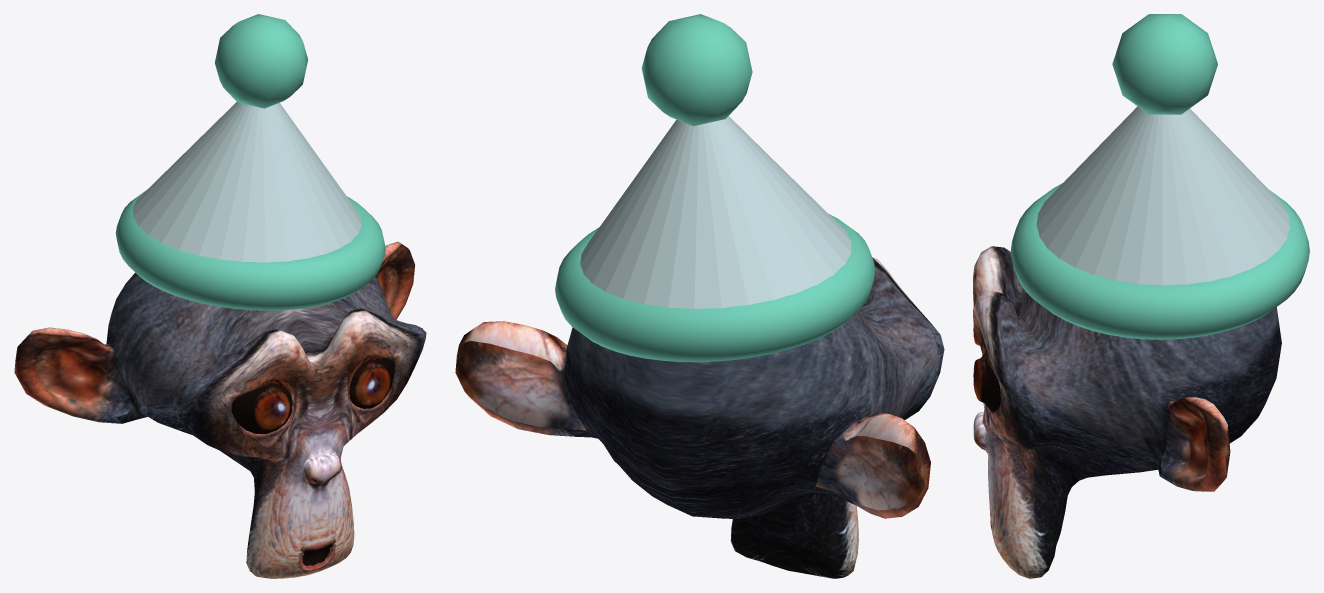
File: monkey_uv.dae
The picture shows the model from 3 angles, left to right: view 1: azimuth 30°, elevation 25°; view 2: azimuth 150°, elevation 25°; view 3: azimuth 270°, elevation 25°; orthographic projection. The views are drawn at different scales.
Parts seen in each view (by area): view 1: Suzanne, Cone, Torus, Icosphere; view 2: Suzanne, Cone, Torus, Icosphere; view 3: Suzanne, Cone, Torus, Icosphere.
Boxes of the visible parts, <box> form: Suzanne: <box>14,241,426,578</box>; Cone: <box>132,102,361,262</box>; Torus: <box>115,190,385,310</box>; Icosphere: <box>215,14,307,108</box>; Suzanne: <box>455,257,944,578</box>; Cone: <box>580,116,851,308</box>; Torus: <box>555,213,875,362</box>; Icosphere: <box>641,14,752,126</box>; Suzanne: <box>973,246,1281,578</box>; Cone: <box>1036,106,1290,285</box>; Torus: <box>1010,183,1309,339</box>; Icosphere: <box>1112,14,1217,114</box>.
Size of the model in its own units: 2.67 by 1.77 by 3.24.
Materials: 3 (1 with a texture image).
